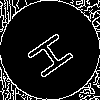H: (25, 25, 83, 81)
